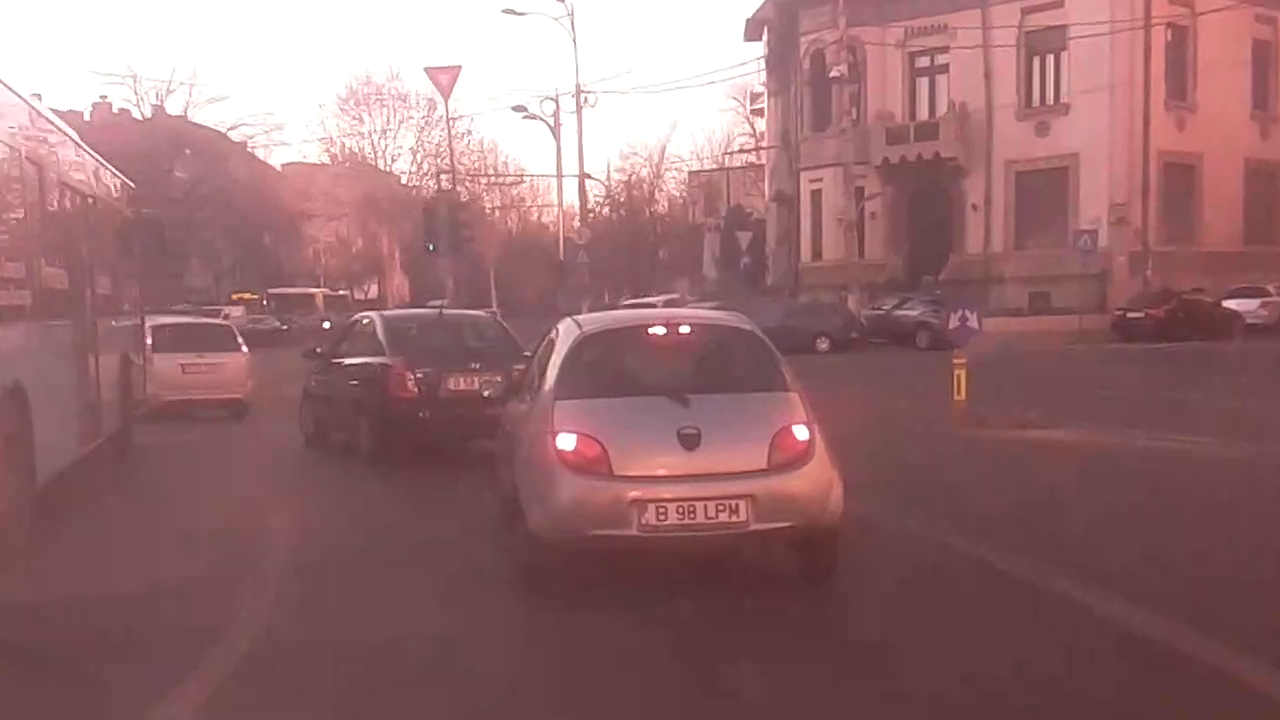license-plate: (634, 494, 752, 529)
